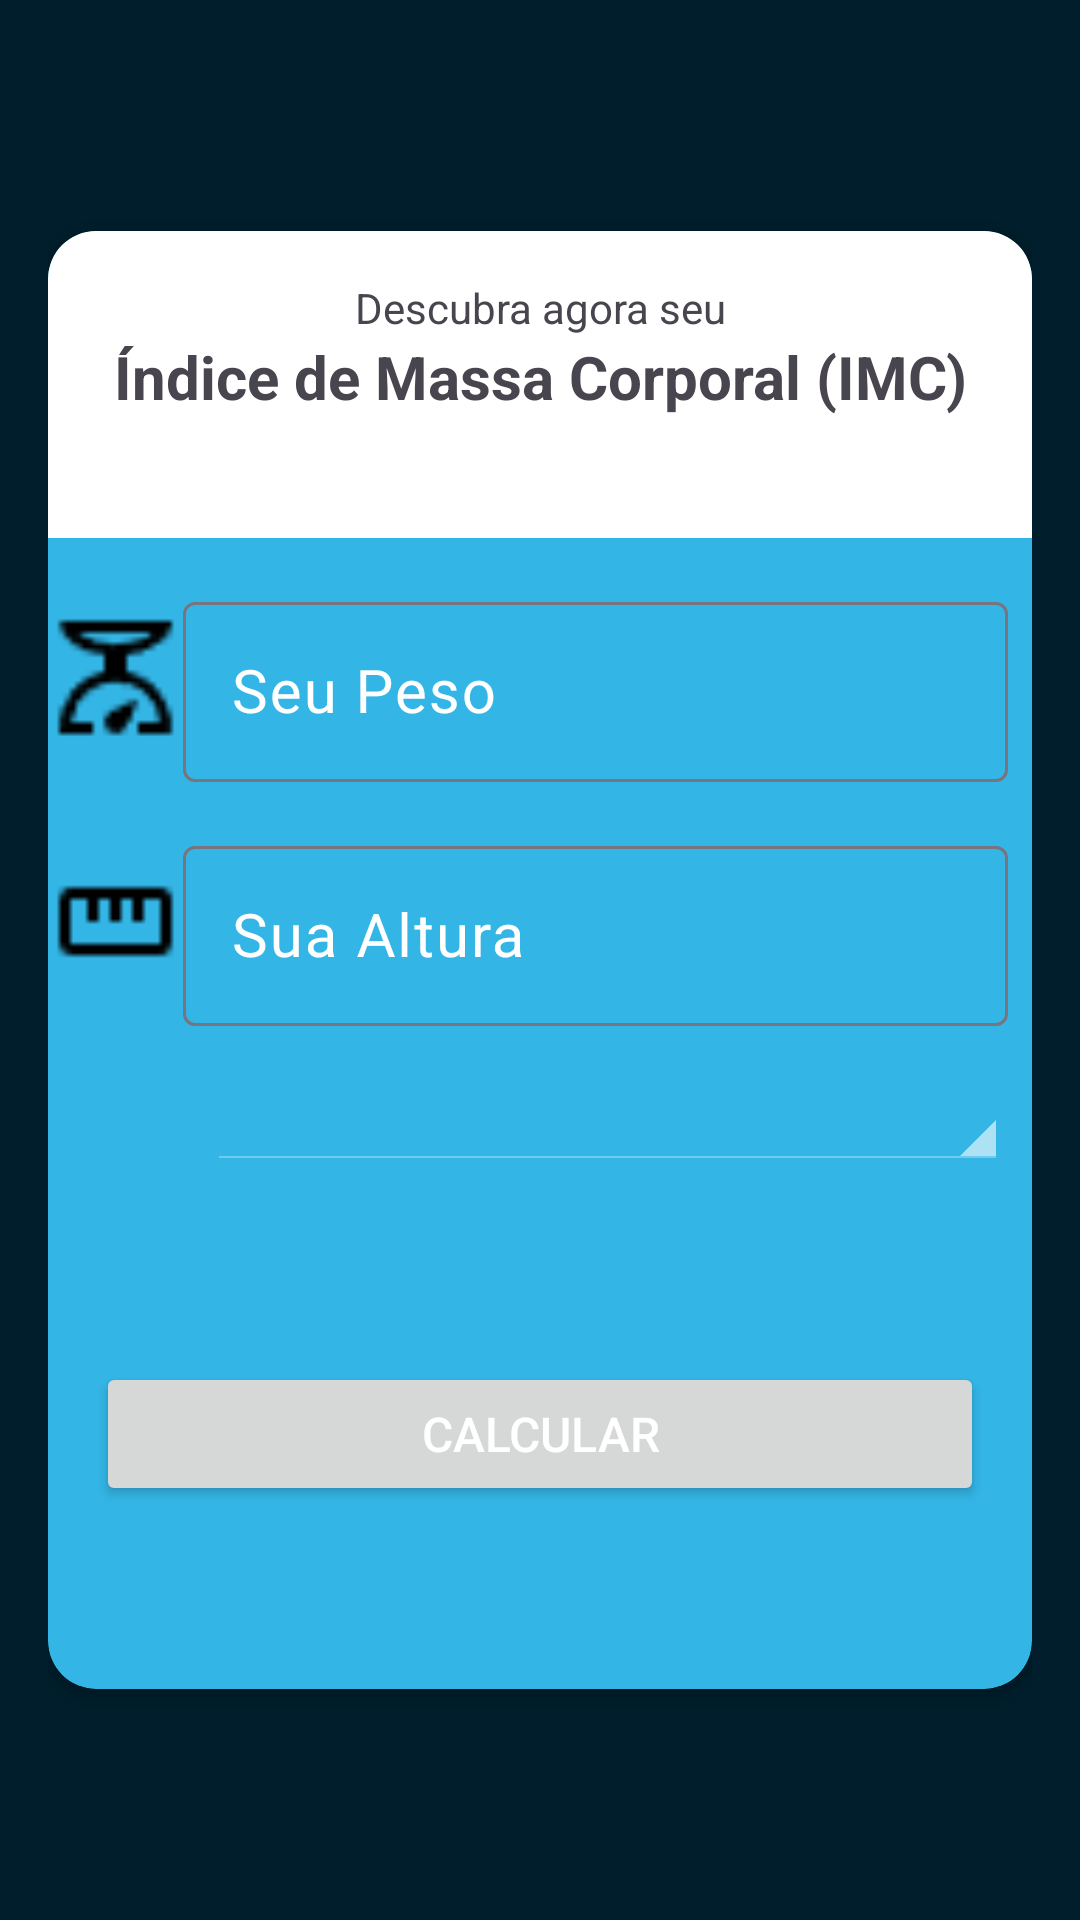

Icon bounding boxes for this 1080w x 1920h phone screenshot, format (x1, y1, x2, y2):
balanca: (57, 619, 174, 736)
regua: (57, 886, 174, 957)
